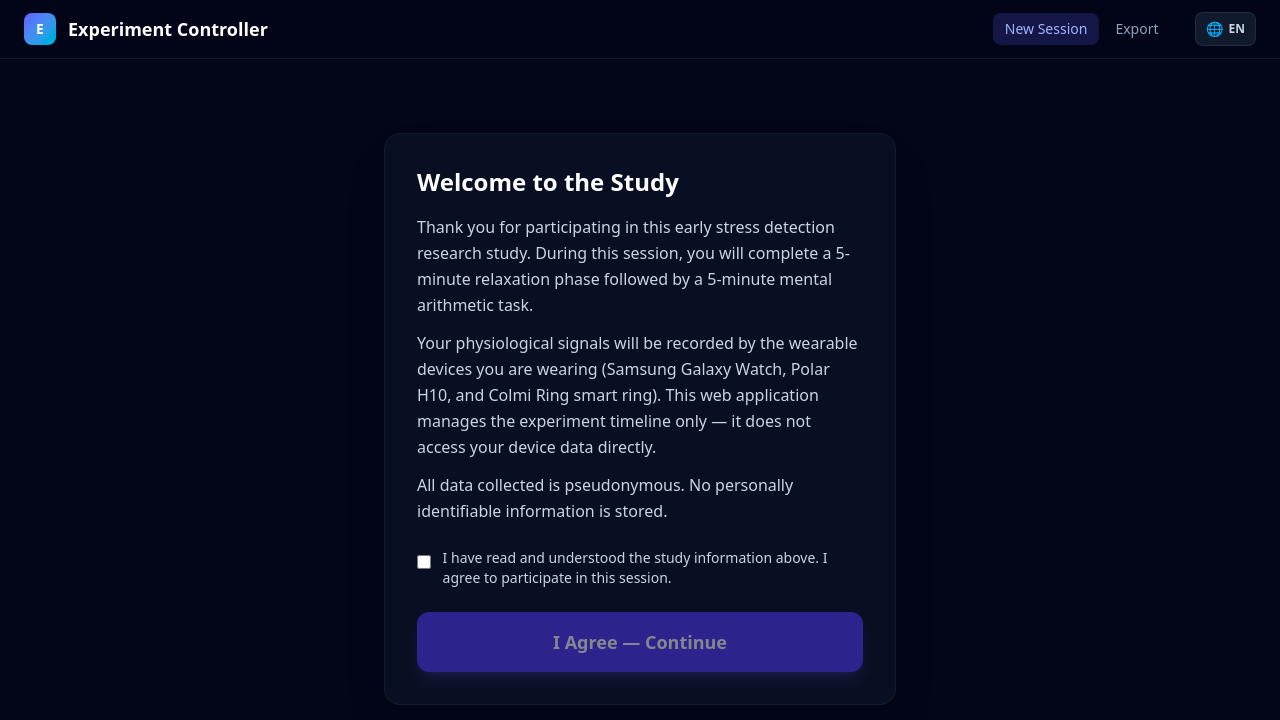
Test case: Session Creation › disables the agree button when consent is unchecked
Step 1. Check the checkbox with id "consent-checkbox" → [424, 562], box [417,552,431,572]
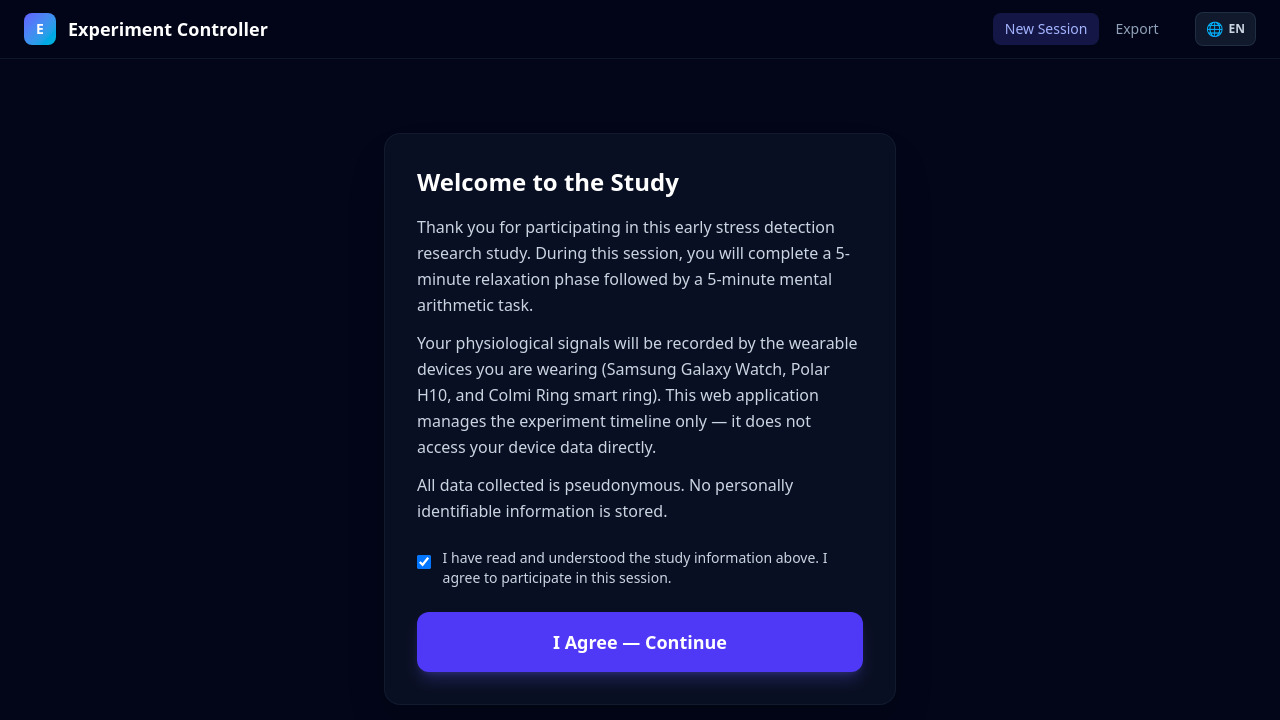
Check: the element with id "consent-agree-btn" is enabled
Step 2. Uncheck the checkbox with id "consent-checkbox" → [424, 562], box [417,552,431,572]
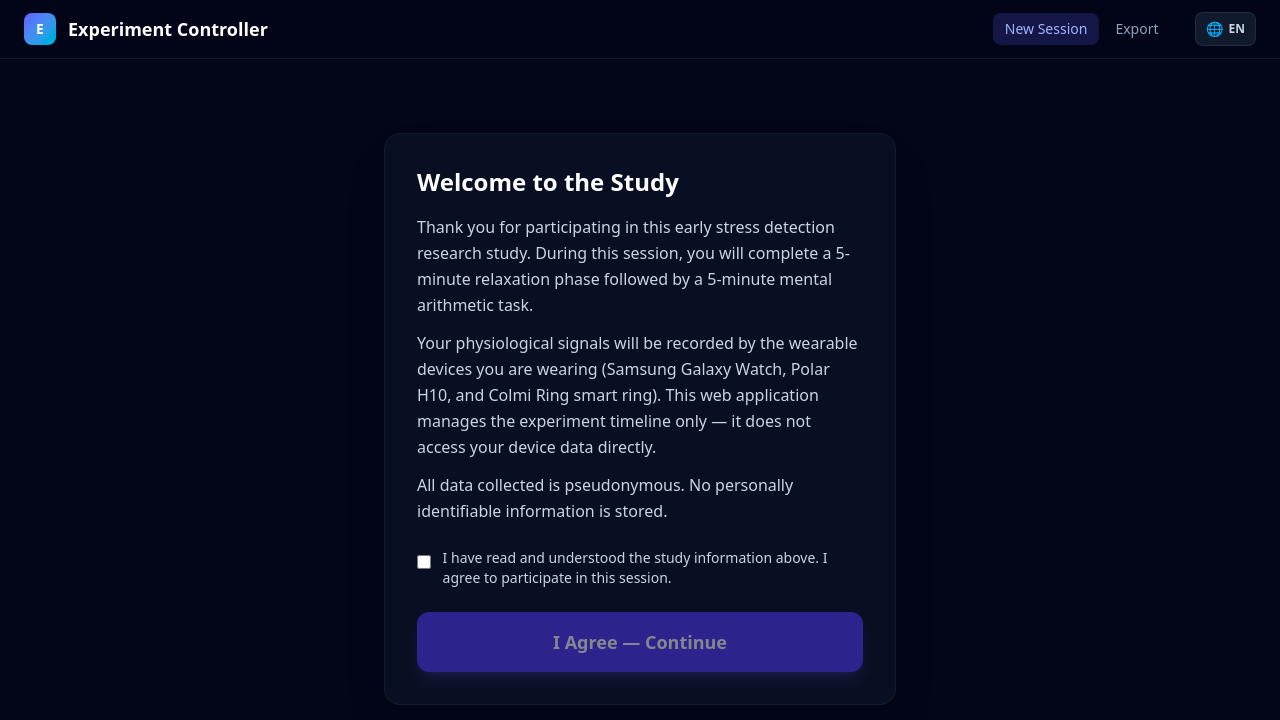
Check: the button with id "consent-agree-btn" is disabled, box [417,612,863,672]
